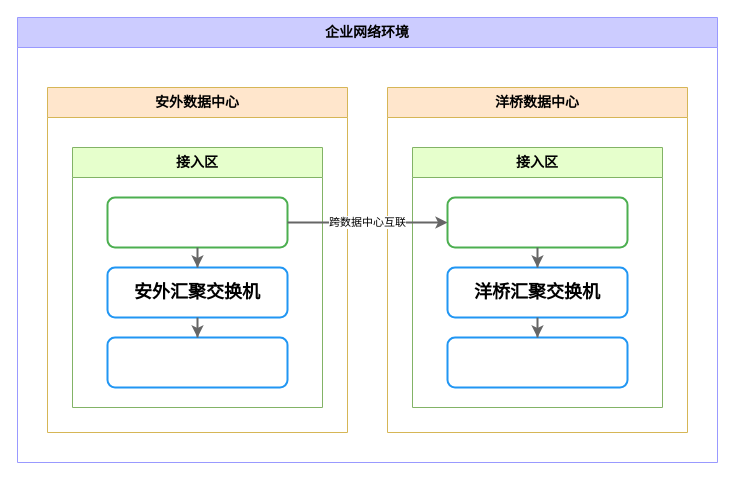
The diagram is 735 pixels wide and 480 high, and some of its shapes have lost their labels. The shapes that lost their labels are listed below. From the top down, each one's centre as x and y in pixels, then its label:
point 197,222: 安外核心路由器
point 537,222: 洋桥核心路由器
point 197,362: 安外接入交换机
point 537,362: 洋桥接入交换机
